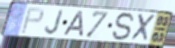7: (86, 9, 111, 39)
A: (62, 10, 85, 38)
J: (44, 9, 65, 36)
P: (19, 7, 45, 36)
S: (111, 11, 136, 42)
X: (128, 13, 157, 43)
